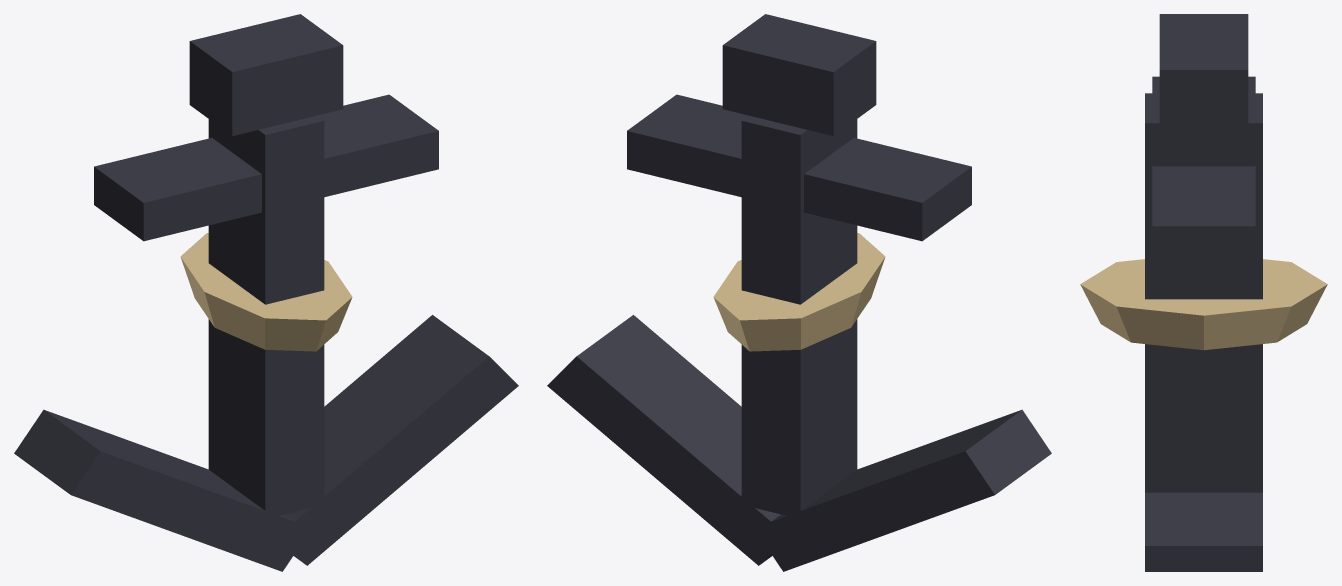
File: env_r13_small_anchor.glb
The picture shows the model from 3 angles, left to right: view 1: azimuth 30°, elevation 25°; view 2: azimuth 150°, elevation 25°; view 3: azimuth 270°, elevation 25°; orthographic projection. The views are drawn at different scales.
Visible parts, largest first — view 1: env_r13_small_anchor; view 2: env_r13_small_anchor; view 3: env_r13_small_anchor.
Boxes of the visible parts, <box> form: env_r13_small_anchor: <box>14,14,518,571</box>; env_r13_small_anchor: <box>547,14,1051,571</box>; env_r13_small_anchor: <box>1080,14,1327,571</box>.
Bounding box in the file's own units: 1.3 × 1.4 × 0.6.
Materials: 1 (1 with a texture image).
